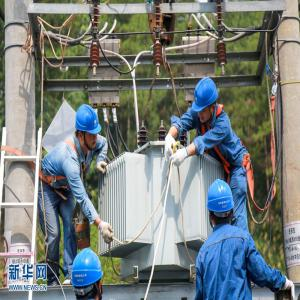blue: (70, 244, 107, 300), (206, 176, 237, 229), (192, 76, 220, 125), (75, 102, 101, 153)
